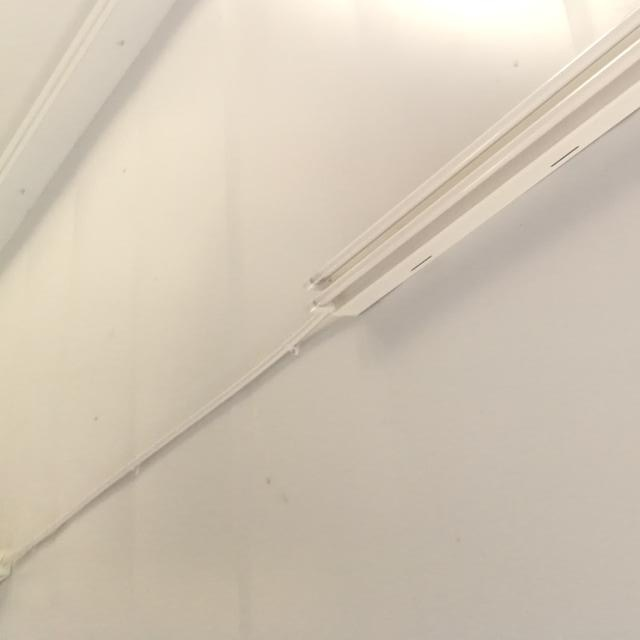fluorescent tube: (269, 0, 640, 362)
